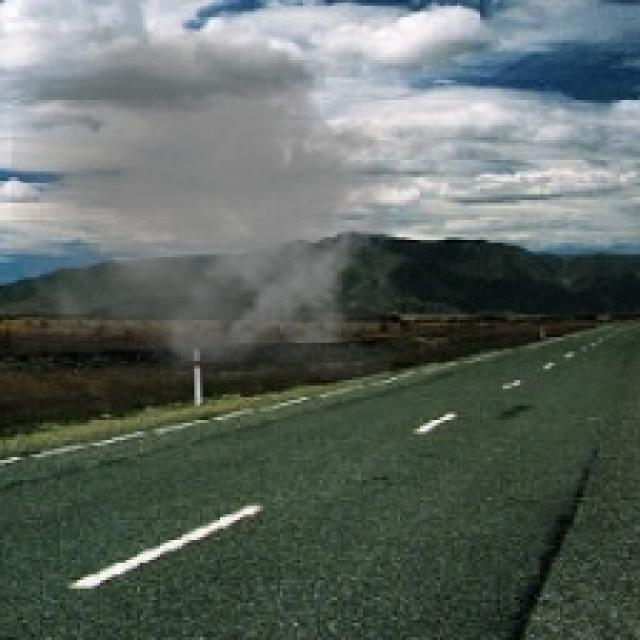smoke: (11, 23, 403, 383)
